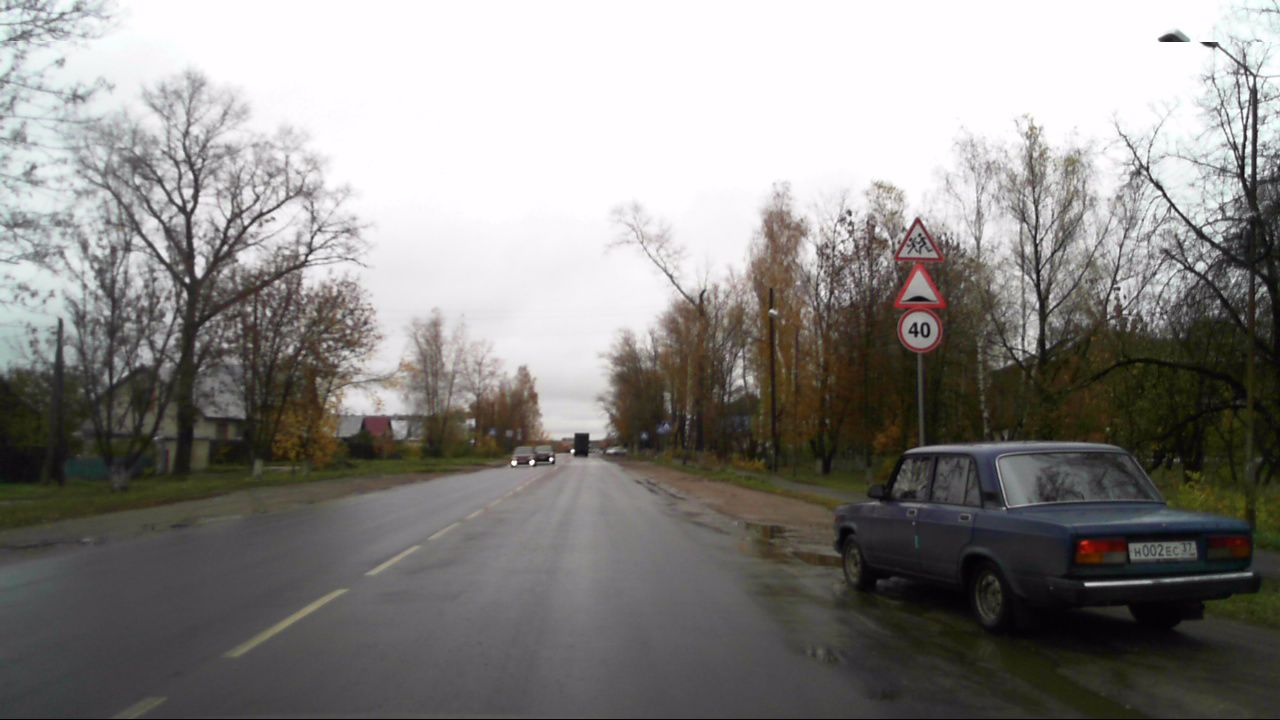speed_warning_40: (898, 307, 943, 352)
